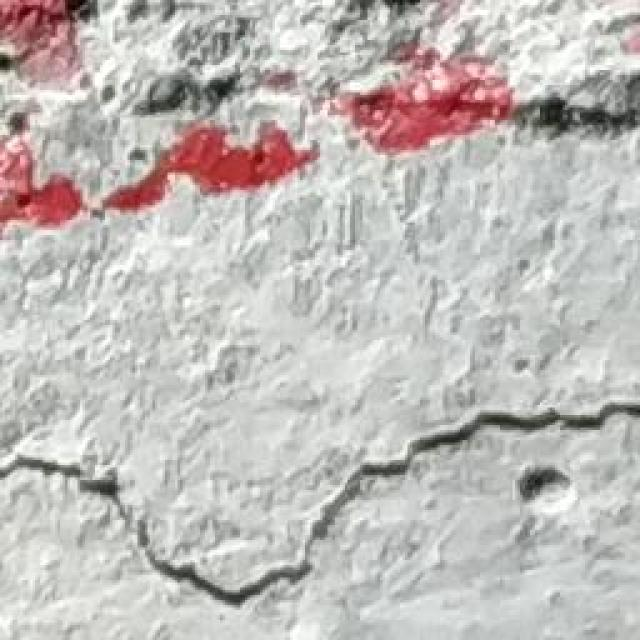Annular: (510, 440, 596, 522)
Transverse: (0, 384, 640, 610)
